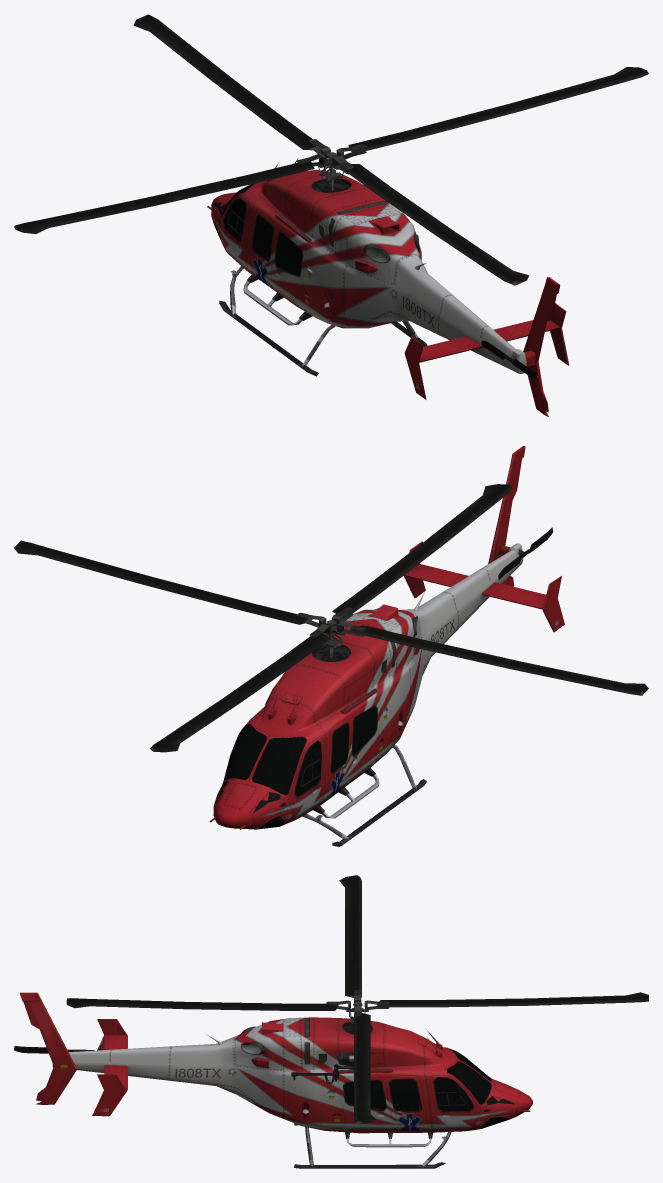
The model's file is Bell 206 JetRanger.obj.
The picture shows the model from 3 angles, top to bottom: view 1: azimuth 30°, elevation 25°; view 2: azimuth 150°, elevation 25°; view 3: azimuth 270°, elevation 25°; orthographic projection. The views are drawn at different scales.
Visible parts, largest first — view 1: piece_1.001, piece_0.001; view 2: piece_1.001, piece_0.001; view 3: piece_1.001, piece_0.001.
Boxes of the visible parts, x1,y1,x2,y2 form: piece_1.001: [14, 14, 648, 416]; piece_0.001: [214, 183, 302, 274]; piece_1.001: [14, 446, 648, 846]; piece_0.001: [224, 706, 376, 829]; piece_1.001: [14, 875, 648, 1168]; piece_0.001: [344, 1048, 508, 1128].
Size of the model in its own units: 11.57 by 3.51 by 12.62.
